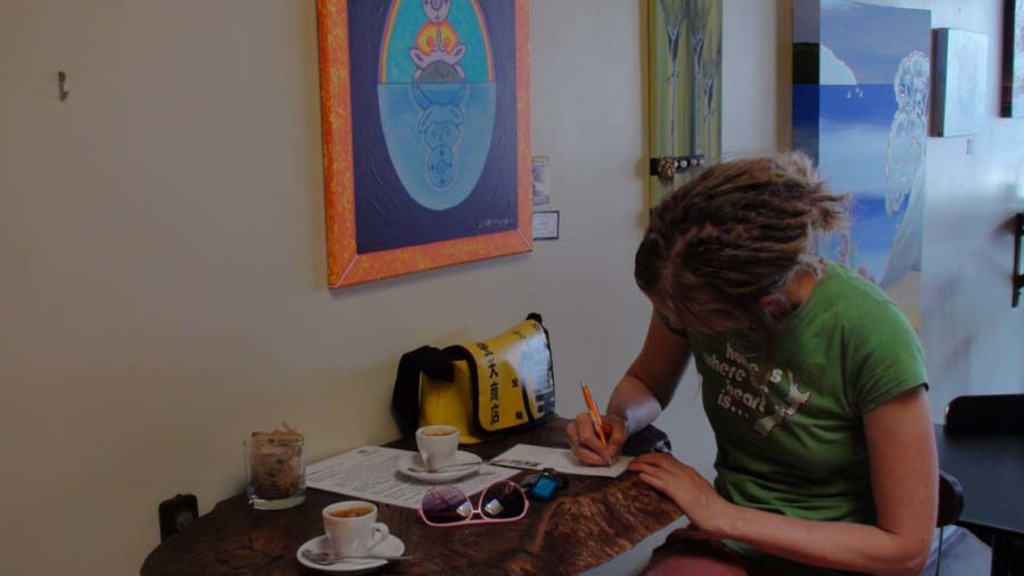Table: (132, 395, 697, 575)
